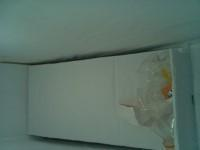bottle: (138, 50, 176, 149)
